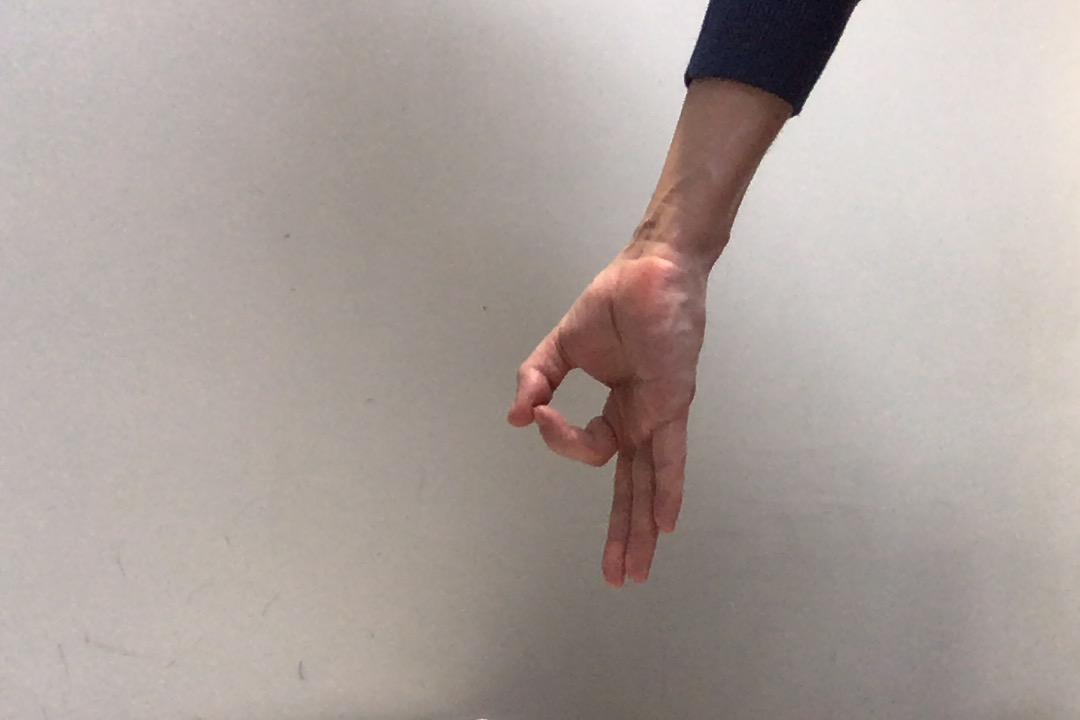oksign: (503, 253, 709, 595)
